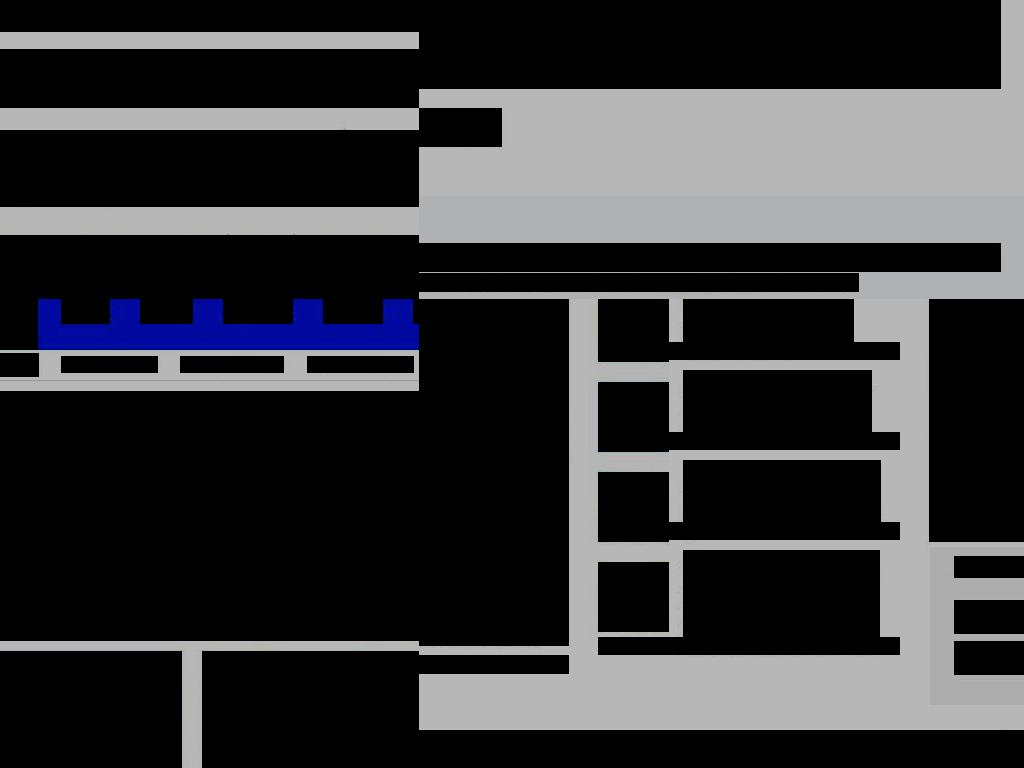button: (419, 299, 569, 590), (0, 651, 182, 768), (598, 342, 900, 360), (598, 432, 900, 450), (598, 522, 900, 540), (598, 637, 900, 655), (419, 108, 502, 147), (419, 655, 569, 674), (954, 641, 1024, 675), (223, 299, 293, 324), (323, 299, 383, 324), (140, 299, 193, 324), (61, 299, 110, 324)
field: (954, 600, 1024, 634)
heading: (0, 0, 419, 32), (0, 353, 39, 377)
iframe: (0, 391, 419, 641), (929, 299, 1024, 542), (419, 730, 1024, 768)
image: (419, 299, 569, 462), (0, 651, 182, 768), (0, 299, 38, 350)
link: (101, 159, 273, 178), (653, 273, 755, 292), (307, 356, 414, 373), (180, 356, 284, 373), (61, 356, 158, 373)
text: (0, 235, 419, 299), (419, 0, 1001, 45), (419, 44, 1001, 89), (0, 49, 419, 108), (0, 130, 419, 178), (0, 159, 419, 207), (683, 550, 880, 637), (419, 243, 1001, 272), (419, 481, 569, 590), (683, 460, 881, 522), (683, 370, 872, 432), (419, 589, 569, 646), (683, 299, 854, 342), (598, 382, 669, 452), (598, 472, 669, 542), (598, 562, 669, 632), (598, 299, 669, 362), (419, 273, 654, 292), (754, 273, 859, 292), (954, 556, 1024, 578), (86, 293, 91, 299)
